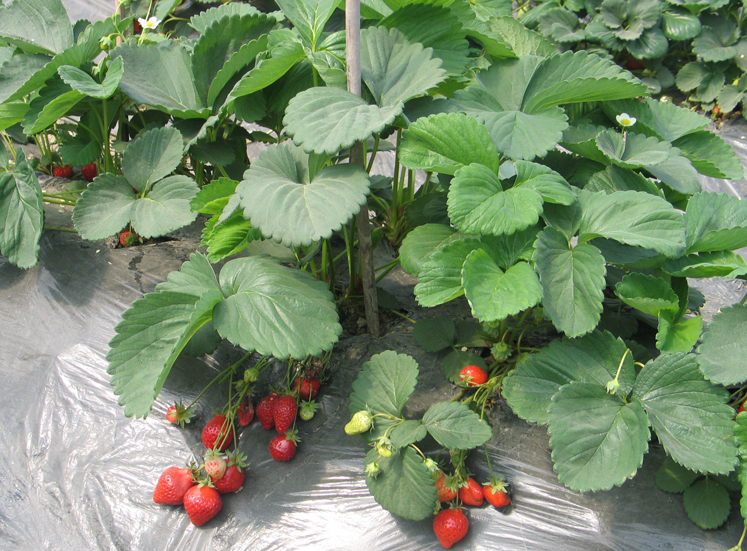StrawberryFusiform: (140, 421, 187, 465), (399, 466, 443, 507), (172, 445, 208, 486), (201, 422, 233, 459), (236, 351, 260, 399), (188, 376, 218, 412), (251, 399, 281, 429), (273, 341, 304, 367), (257, 360, 275, 396)
StrawberryIrremovable: (319, 377, 351, 401), (189, 419, 213, 441), (349, 400, 369, 425), (226, 335, 246, 354), (278, 369, 295, 389)
StrawberryOther: (449, 440, 483, 470), (424, 332, 459, 360), (424, 437, 454, 466), (399, 434, 424, 460), (72, 146, 95, 170), (105, 208, 131, 229), (46, 145, 67, 168), (153, 370, 173, 391)
StrawberryRemovable: (141, 423, 187, 465), (399, 465, 440, 507), (172, 443, 207, 484), (188, 377, 218, 412), (202, 422, 232, 457), (238, 353, 259, 398), (250, 397, 281, 427), (426, 332, 458, 359), (450, 440, 480, 468), (255, 358, 276, 397), (424, 437, 452, 466), (273, 342, 303, 366), (400, 433, 425, 460), (46, 145, 69, 168), (106, 207, 130, 229), (72, 147, 95, 168), (155, 372, 173, 390)
